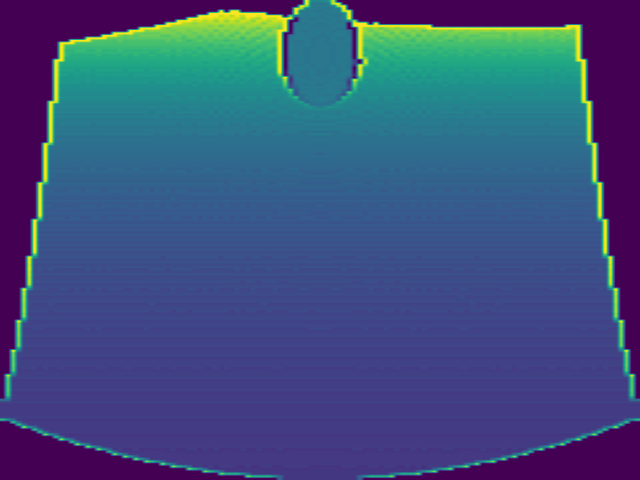sphere: (275, 1, 364, 110)
